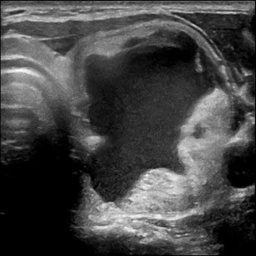mass: (74, 30, 221, 212)
